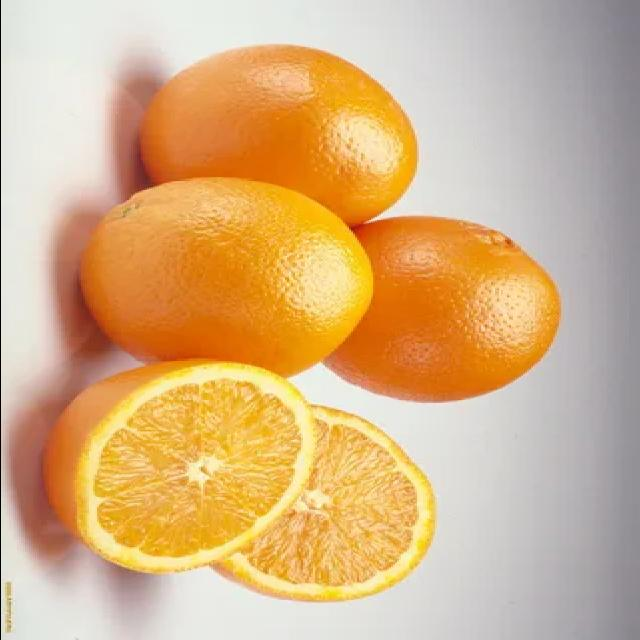orange: (44, 182, 383, 399)
